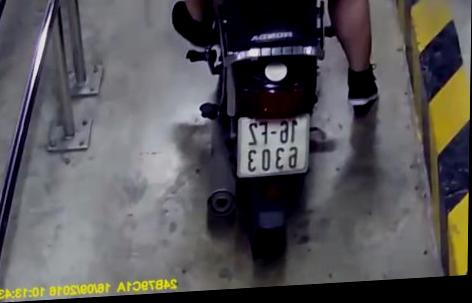License_Plate: (233, 106, 317, 184)
